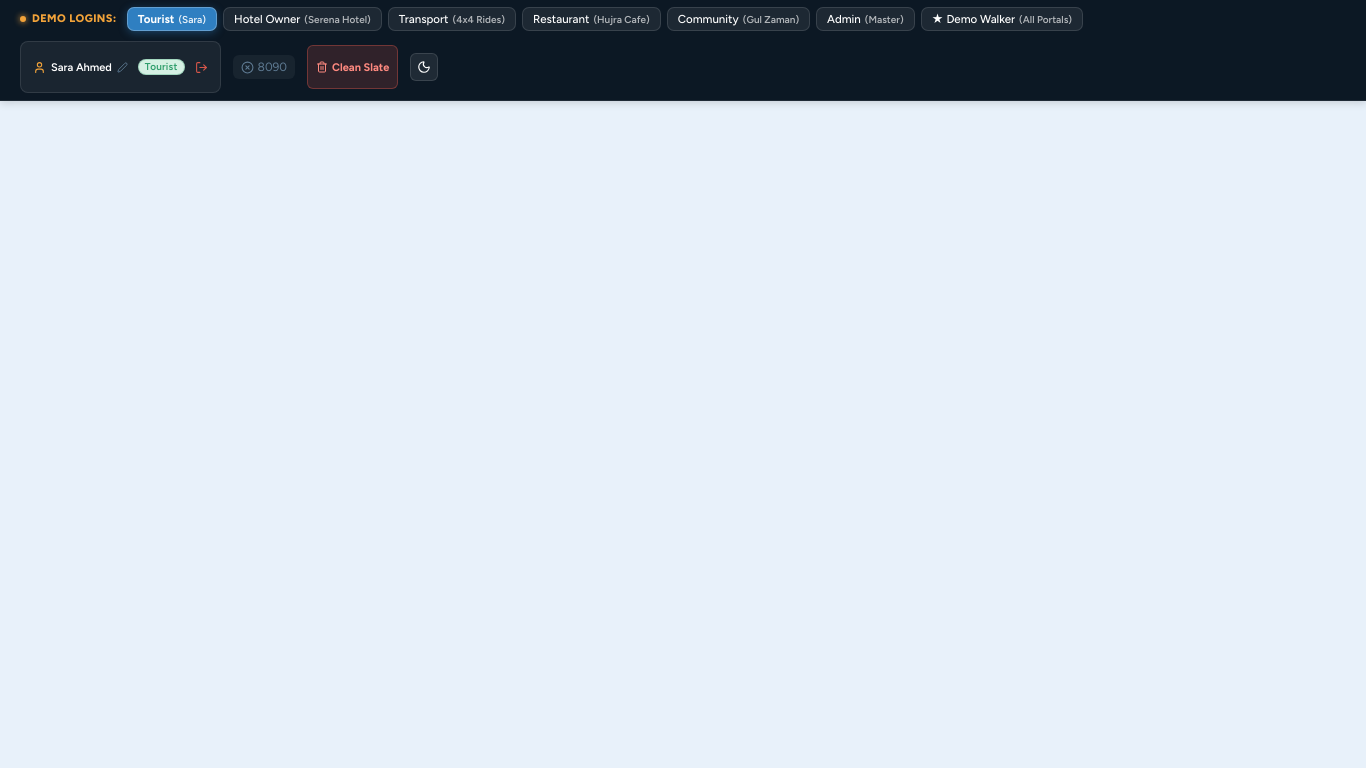
Test case: Profile Settings & Contact Info Modal › opens ProfileSettingsModal from RoleSwitcherBar user button
This screenshot has width=1366, height=768.
Click the button with test id "btn-open-profile-settings". click: (80, 67)
box: [29,45,132,89]
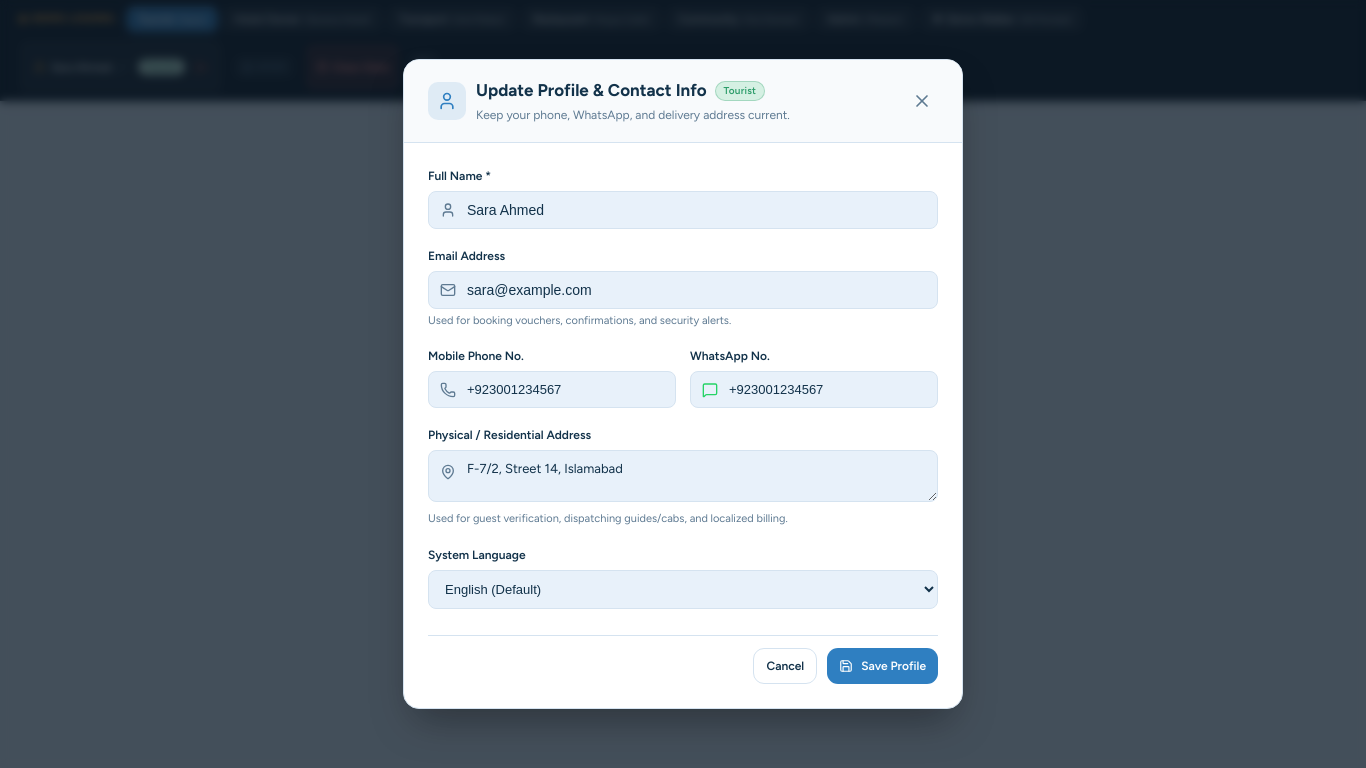
Check: the element with test id "profile-settings-modal" is shown, box [403,59,963,709]
